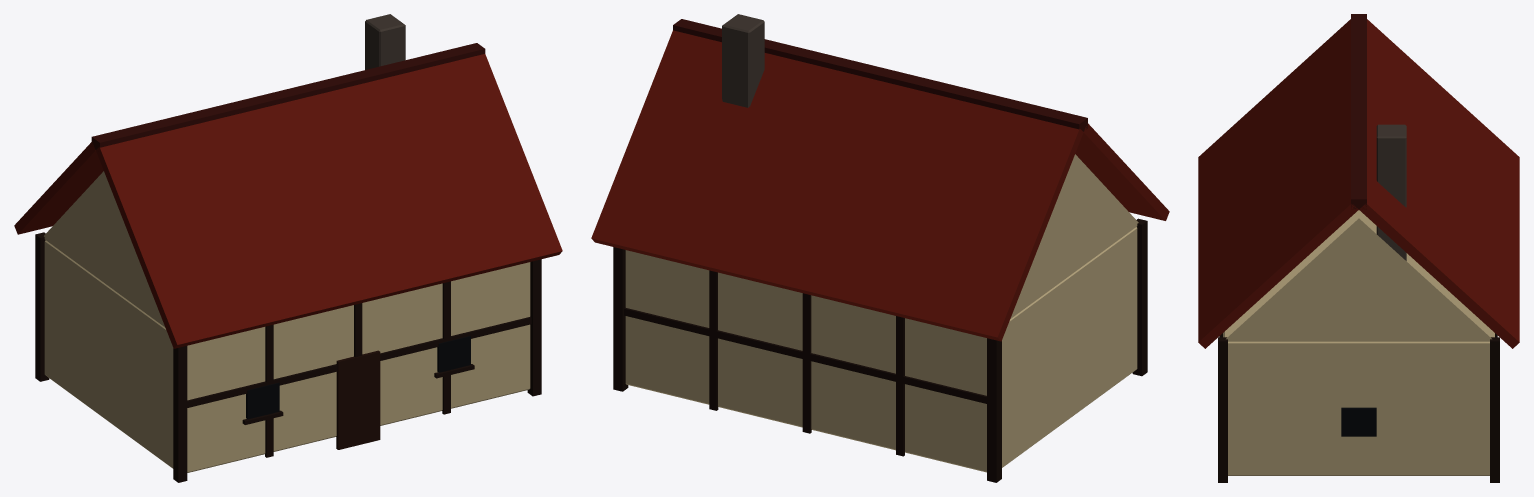
File: house_timber_posts.fbx
The picture shows the model from 3 angles, left to right: view 1: azimuth 30°, elevation 25°; view 2: azimuth 150°, elevation 25°; view 3: azimuth 270°, elevation 25°; orthographic projection. The views are drawn at different scales.
Visible parts, largest first — view 1: house_timber_posts; view 2: house_timber_posts; view 3: house_timber_posts.
Boxes of the visible parts, bbox=[...] form: house_timber_posts: bbox=[14, 14, 562, 482]; house_timber_posts: bbox=[591, 14, 1169, 482]; house_timber_posts: bbox=[1198, 14, 1519, 482].
Bounding box in the file's own units: 8.7 × 7.15 × 6.38.
